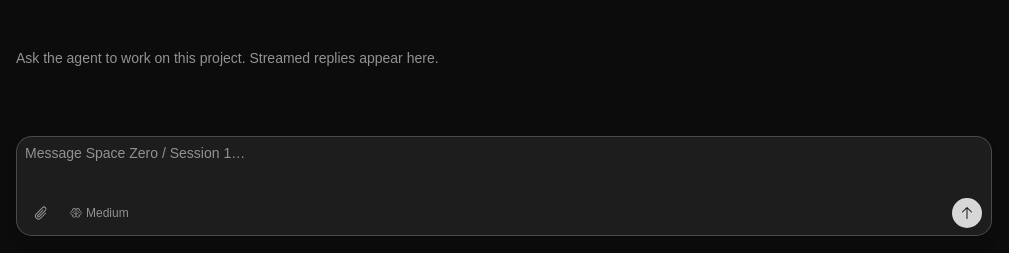
Test case: ProjectSessionHostSurface › keeps the previous thinking level visible when thinking update fails
Click the button with aria-label "Thinking: Medium": (99, 213) left=61, top=201, right=138, bottom=225
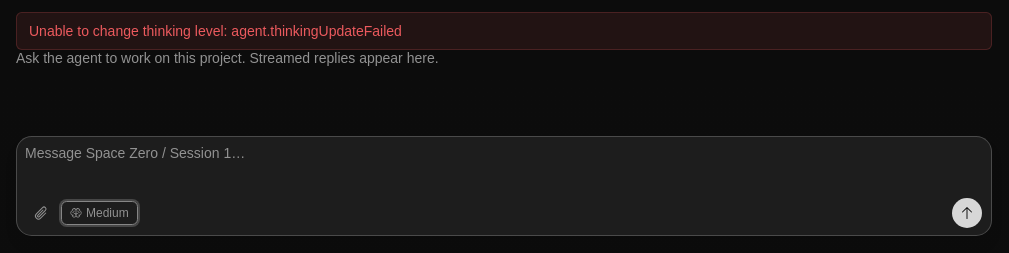
Expected: the message reads "Unable to change thinking level: agent.thinkingUpdateFailed", left=29, top=23, right=402, bottom=39
